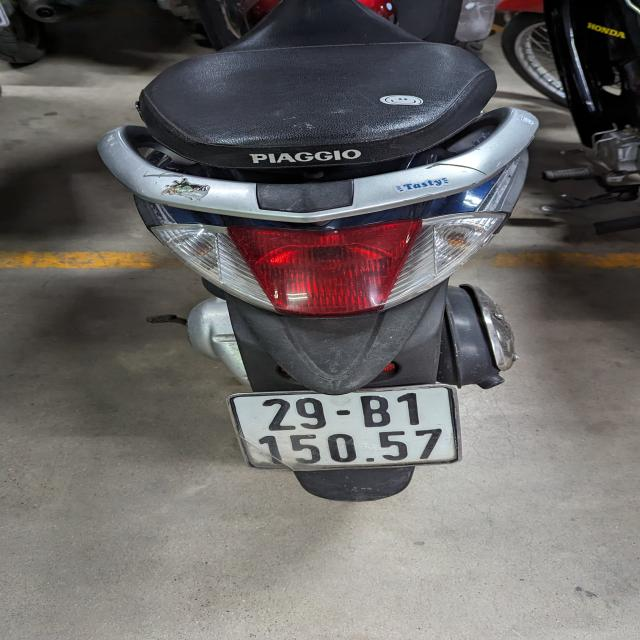License: (225, 384, 461, 472)
